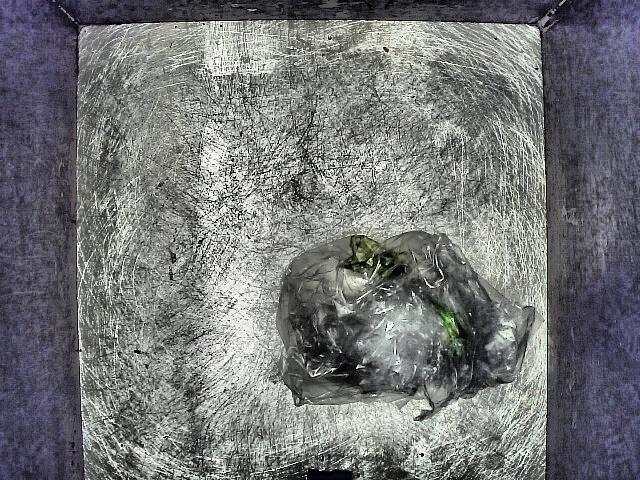Plastic: (268, 218, 540, 423)
